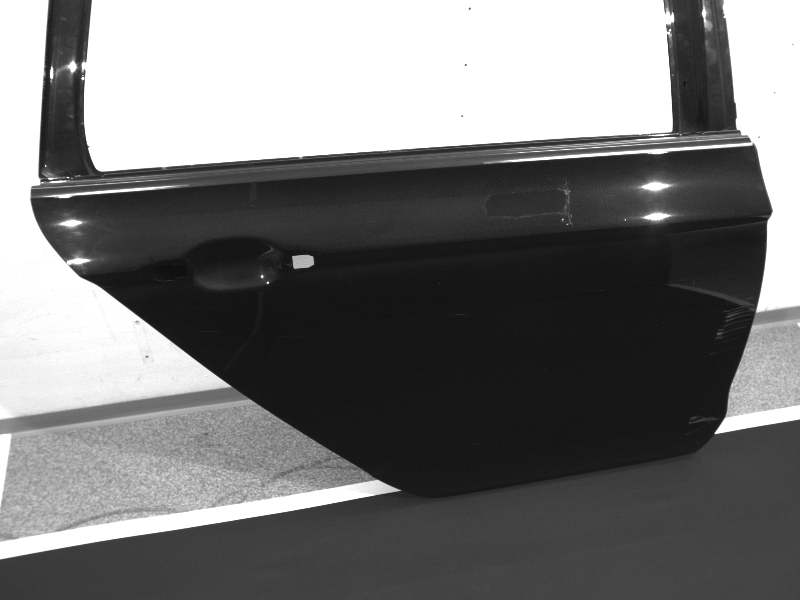scratch: (708, 295, 756, 357), (684, 411, 720, 437), (451, 312, 475, 317), (279, 334, 301, 339), (202, 330, 227, 334), (584, 289, 607, 293)
